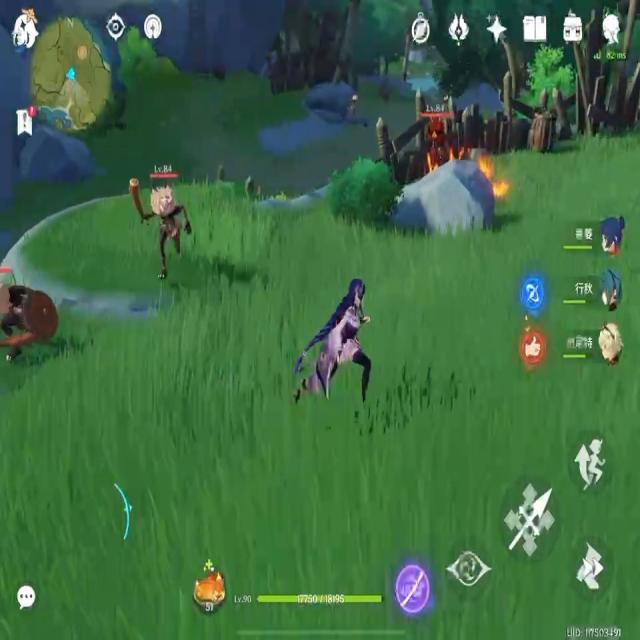genshin-hilichurls: (1, 260, 55, 361), (130, 169, 182, 268), (424, 103, 454, 173), (348, 88, 359, 121)
